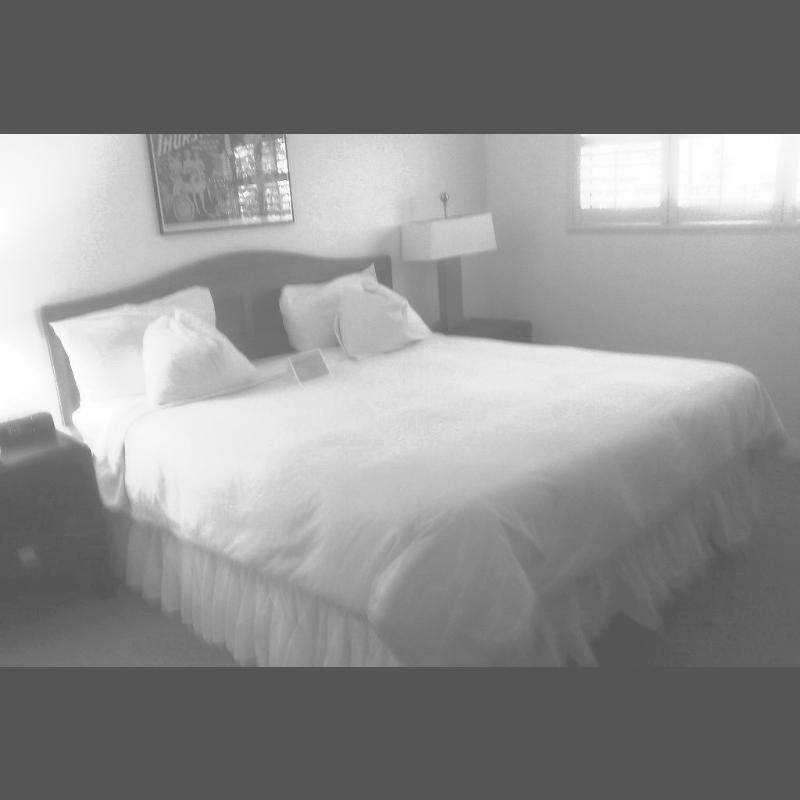pillow: (47, 282, 217, 401), (288, 260, 380, 350)
